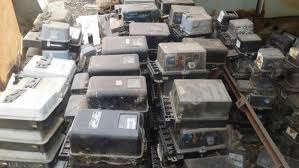metal: (58, 104, 151, 162), (64, 73, 157, 122), (166, 72, 234, 121), (72, 51, 153, 88), (1, 81, 61, 130), (153, 39, 218, 80), (166, 120, 235, 158), (1, 114, 64, 154), (87, 34, 155, 62), (122, 13, 176, 46), (223, 15, 264, 44), (179, 10, 220, 39), (253, 47, 291, 76), (231, 31, 272, 56), (39, 21, 76, 47)
